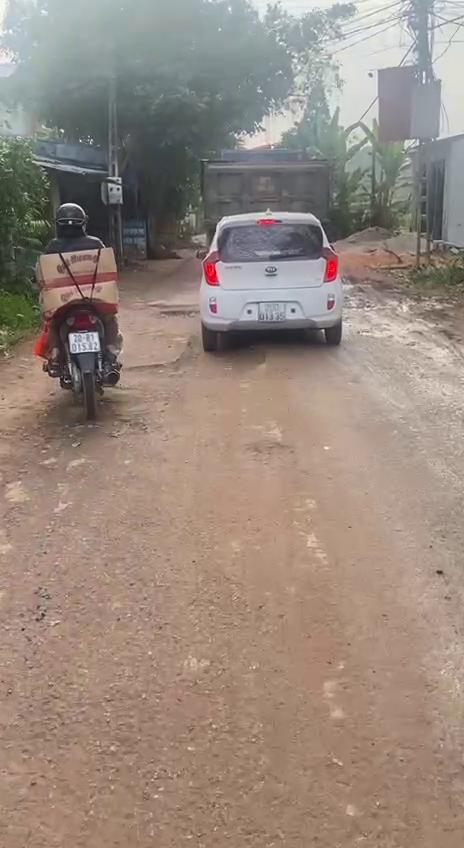pothole: (118, 352, 196, 378), (163, 308, 201, 321)
